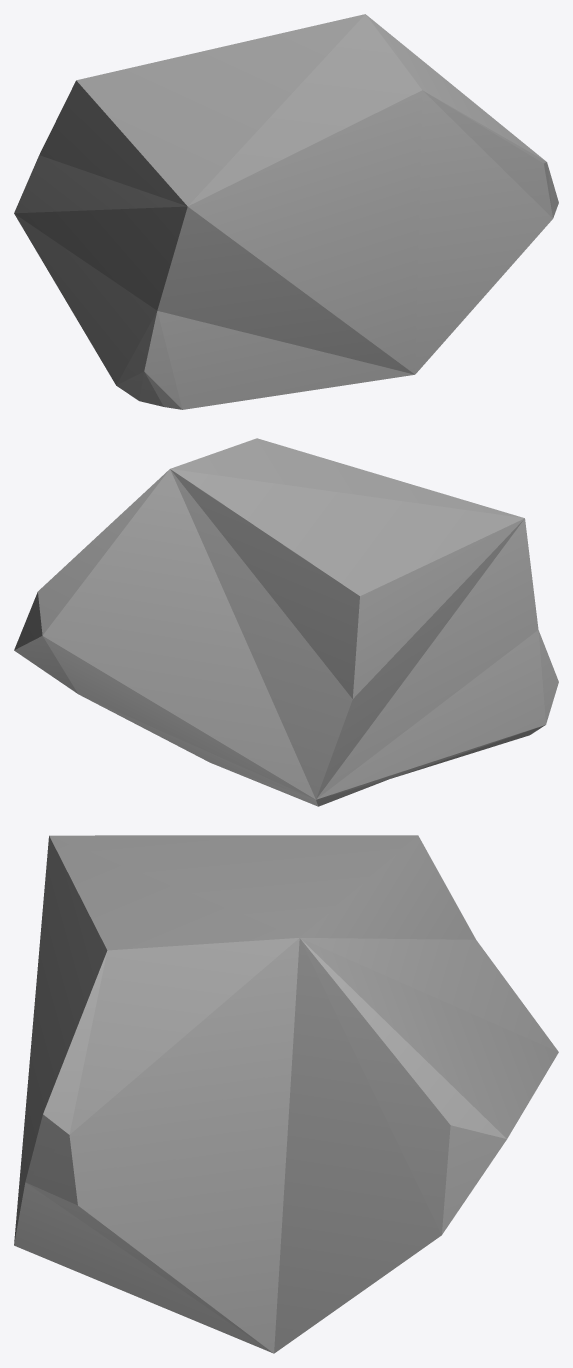
File: stone small 11.fbx
3 renders of one model, top to bottom at view 1: azimuth 30°, elevation 25°; view 2: azimuth 150°, elevation 25°; view 3: azimuth 270°, elevation 25°, orthographic. The views are drawn at different scales.
Visible parts, largest first — view 1: stone small 11; view 2: stone small 11; view 3: stone small 11.
Part boxes in pixels (x1,y1,x2,y2): stone small 11: (14, 14, 558, 409); stone small 11: (14, 438, 558, 806); stone small 11: (14, 835, 558, 1353).
Bounding box in the file's own units: 62.14 × 40.93 × 52.51.
